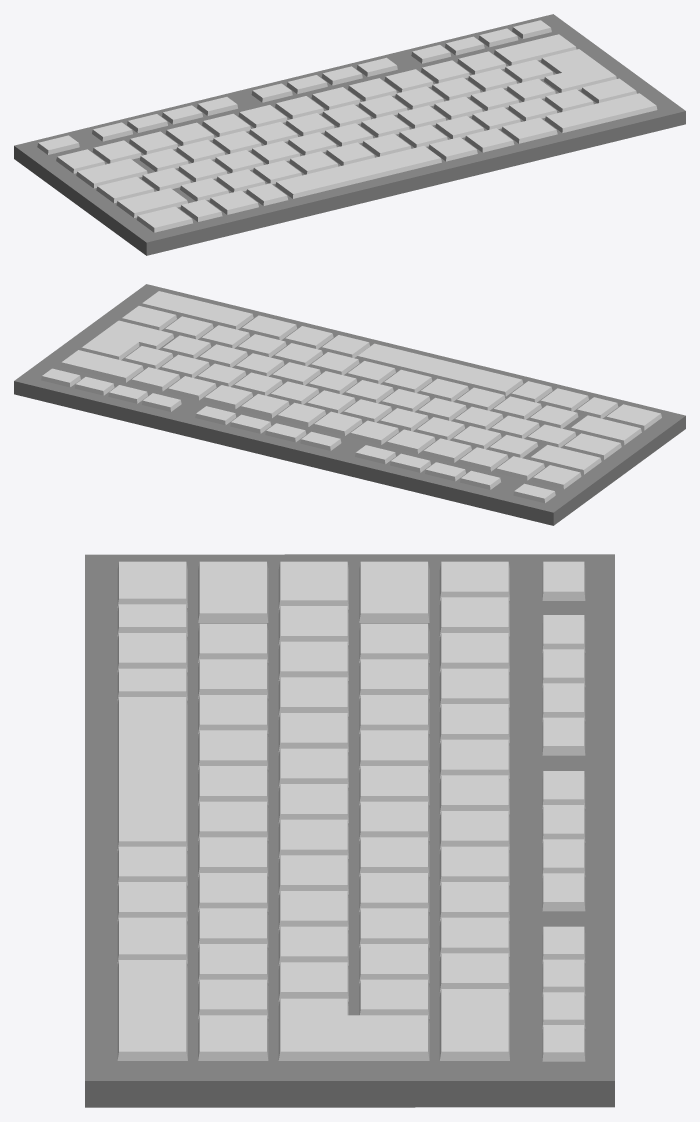
The model's file is KeyboardV2White.fbx.
3 renders of one model, top to bottom at view 1: azimuth 30°, elevation 25°; view 2: azimuth 150°, elevation 25°; view 3: azimuth 270°, elevation 25°, orthographic. The views are drawn at different scales.
Visible parts, largest first — view 1: KeyboardV2White; view 2: KeyboardV2White; view 3: KeyboardV2White.
Part boxes in pixels (<box>): KeyboardV2White: <box>14,14,685,255</box>; KeyboardV2White: <box>14,284,685,525</box>; KeyboardV2White: <box>85,554,614,1107</box>.
Bounding box in the file's own units: 29.99 × 0.9399 × 12.76.
